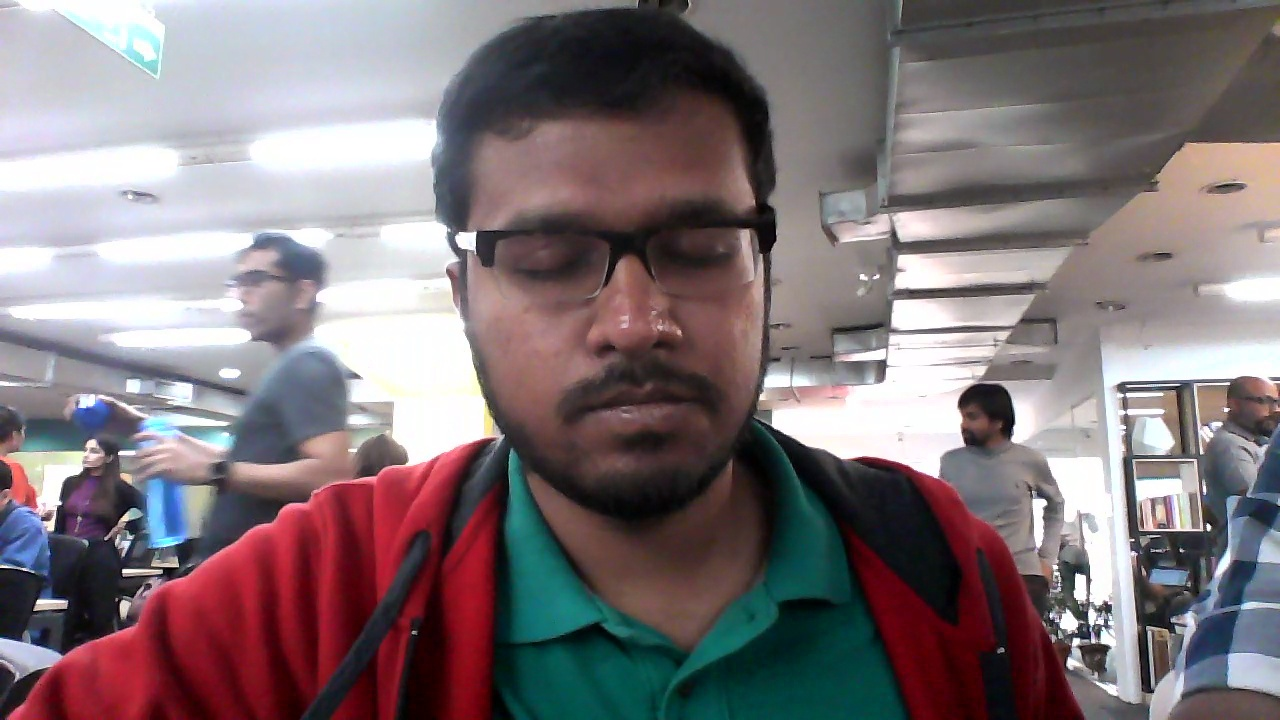closed: (439, 12, 780, 512)
